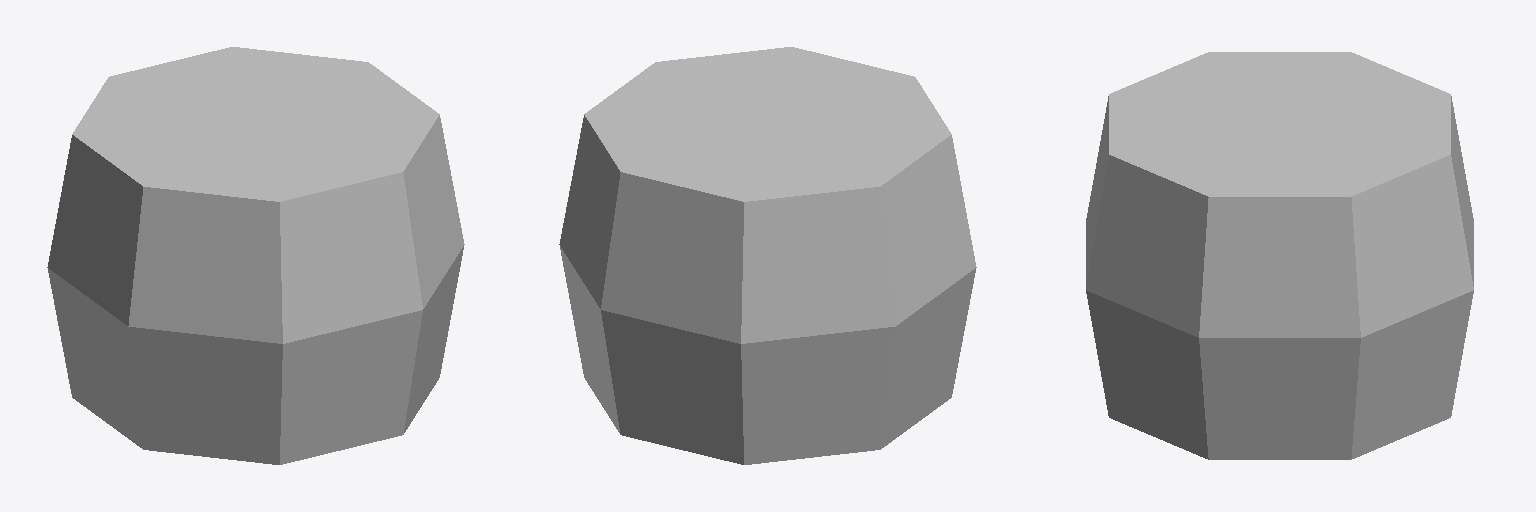
Rendered from bochka_002.obj.
3 renders of one model, left to right at view 1: azimuth 30°, elevation 25°; view 2: azimuth 150°, elevation 25°; view 3: azimuth 270°, elevation 25°, orthographic.
Visible parts, largest first — view 1: Бочка.002; view 2: Бочка.002; view 3: Бочка.002.
Boxes of the visible parts, <box> form: Бочка.002: <box>47,47,464,464</box>; Бочка.002: <box>559,47,976,464</box>; Бочка.002: <box>1086,52,1473,459</box>.
Size of the model in its own units: 0.8763 by 0.6558 by 0.8763.